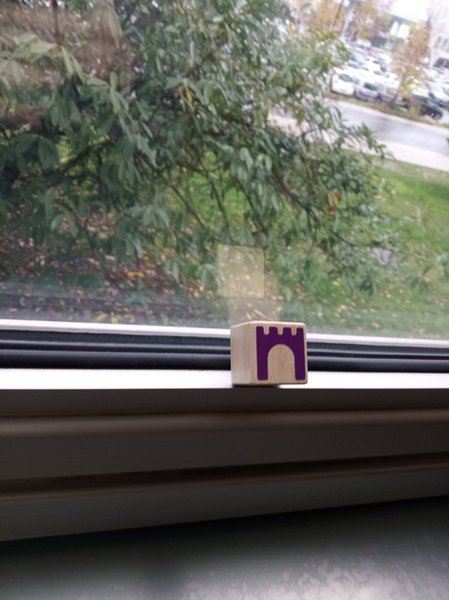violet: (228, 324, 312, 386)
